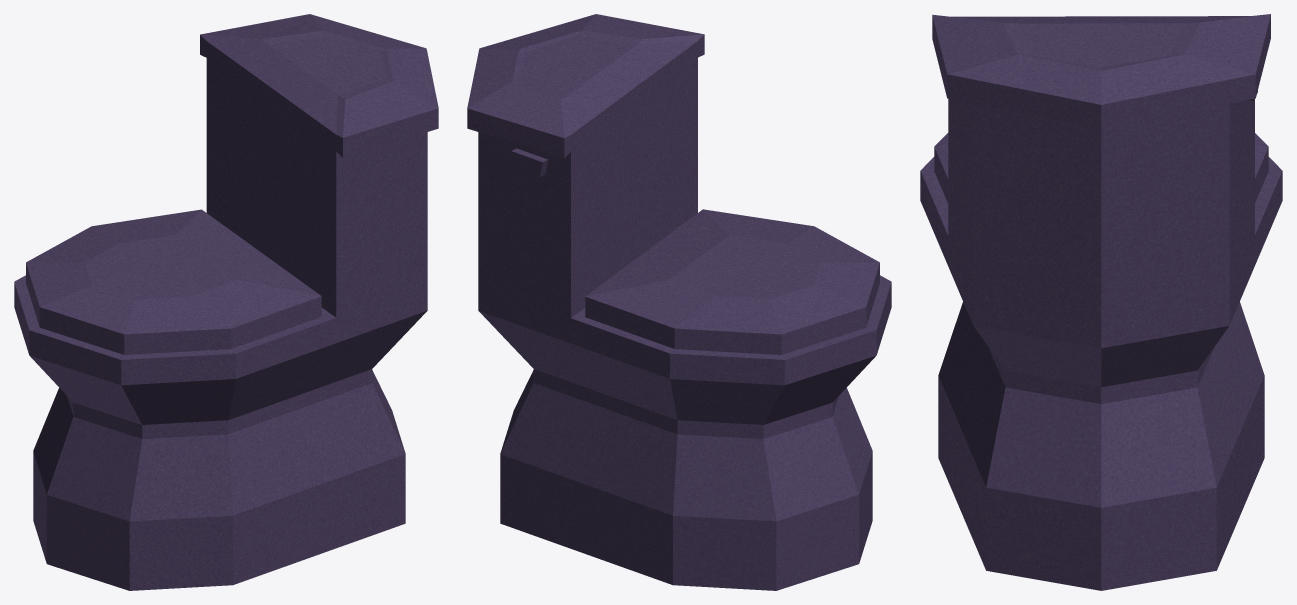
File: CDToilet.fbx
The picture shows the model from 3 angles, left to right: view 1: azimuth 30°, elevation 25°; view 2: azimuth 150°, elevation 25°; view 3: azimuth 270°, elevation 25°; orthographic projection. The views are drawn at different scales.
Visible parts, largest first — view 1: CDToilet; view 2: CDToilet; view 3: CDToilet.
Boxes of the visible parts, x1,y1,x2,y2 form: CDToilet: (14, 14, 438, 590); CDToilet: (467, 14, 891, 590); CDToilet: (920, 14, 1282, 590).
Bounding box in the file's own units: 74.09 × 77.01 × 48.87.
